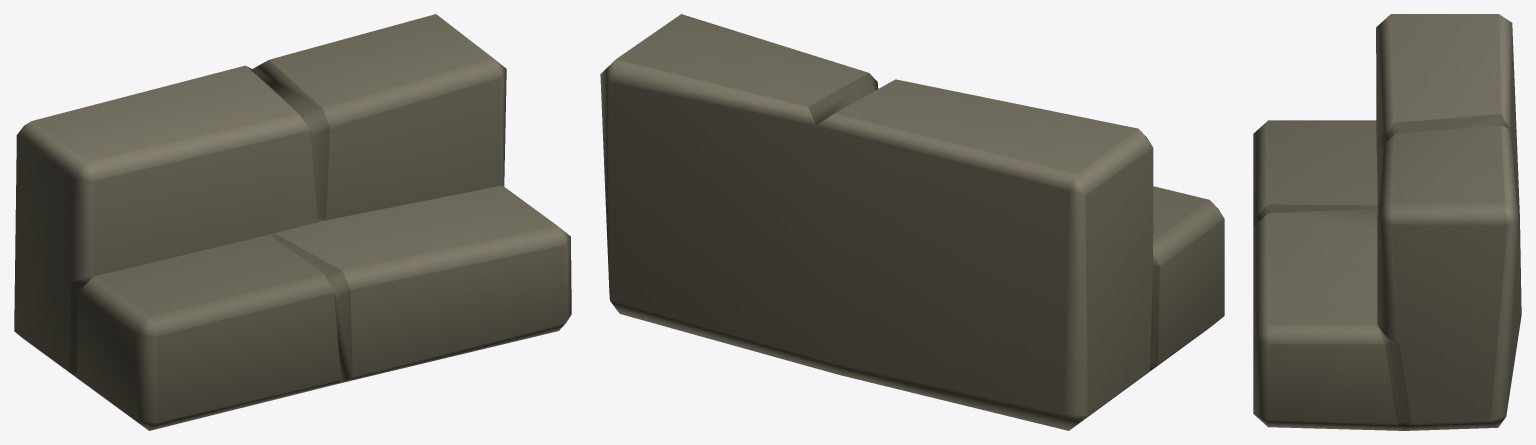
File: orc_stairs_half_1_shade_5.fbx
3 renders of one model, left to right at view 1: azimuth 30°, elevation 25°; view 2: azimuth 150°, elevation 25°; view 3: azimuth 270°, elevation 25°, orthographic. The views are drawn at different scales.
Visible parts, largest first — view 1: orc_stairs_half_1_shade_5; view 2: orc_stairs_half_1_shade_5; view 3: orc_stairs_half_1_shade_5.
Boxes of the visible parts, bbox=[...] form: orc_stairs_half_1_shade_5: bbox=[14, 14, 571, 430]; orc_stairs_half_1_shade_5: bbox=[600, 14, 1224, 430]; orc_stairs_half_1_shade_5: bbox=[1253, 14, 1521, 430].
Bounding box in the file's own units: 100 × 50.87 × 54.57.
